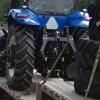Tractor: (5, 0, 100, 100)
